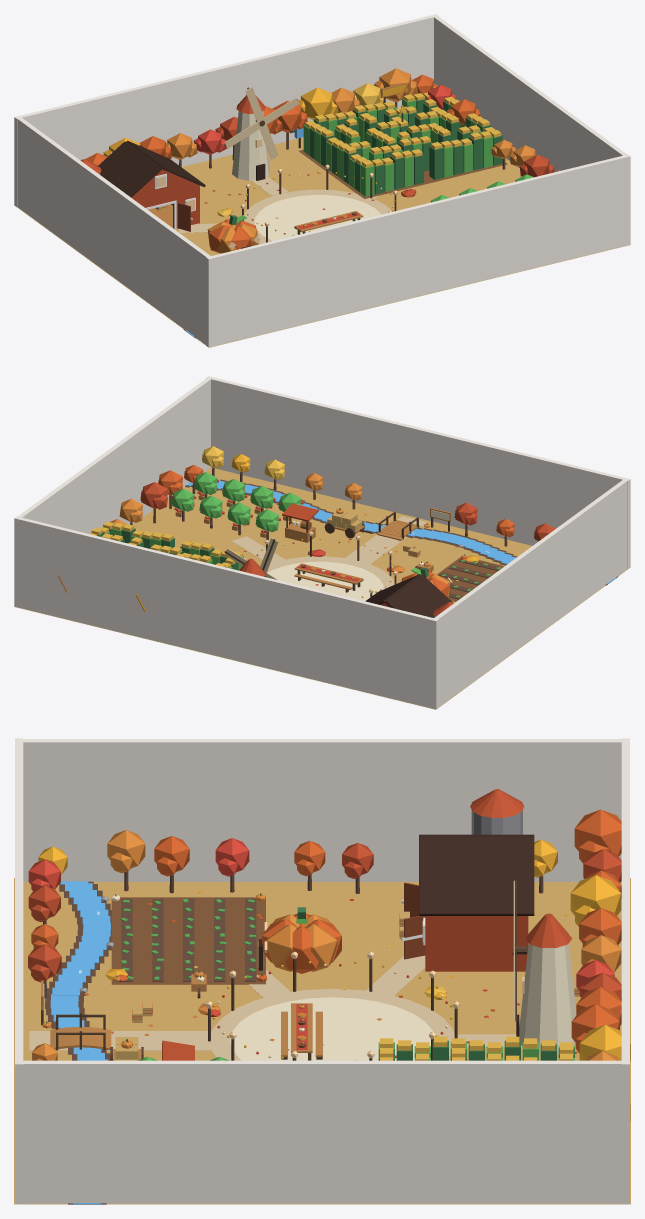
Rendered from CatCafe_Harvest_Set.glb.
3 views of the same model, one above another, from view 1: azimuth 30°, elevation 25°; view 2: azimuth 150°, elevation 25°; view 3: azimuth 270°, elevation 25° (orthographic). The views are drawn at different scales.
Visible parts, largest first — view 1: CatCafe_Harvest_Set_001_Fence_Barrier, CatCafe_Harvest_Set, CatCafe_Harvest_Set_005_Windmill_Sails_Spin, CatCafe_Harvest_Set_002_Lights_Glow; view 2: CatCafe_Harvest_Set_001_Fence_Barrier, CatCafe_Harvest_Set, CatCafe_Harvest_Set_003_Creek_Water, CatCafe_Harvest_Set_004_Leaves_Decor, CatCafe_Harvest_Set_005_Windmill_Sails_Spin; view 3: CatCafe_Harvest_Set_001_Fence_Barrier, CatCafe_Harvest_Set, CatCafe_Harvest_Set_003_Creek_Water, CatCafe_Harvest_Set_004_Leaves_Decor, CatCafe_Harvest_Set_002_Lights_Glow.
Boxes of the visible parts, x1=… form: CatCafe_Harvest_Set_001_Fence_Barrier: x1=14, y1=14, x2=630, y2=347; CatCafe_Harvest_Set: x1=17, y1=68, x2=630, y2=347; CatCafe_Harvest_Set_005_Windmill_Sails_Spin: x1=224, y1=87, x2=298, y2=159; CatCafe_Harvest_Set_002_Lights_Glow: x1=156, y1=85, x2=407, y2=249; CatCafe_Harvest_Set_001_Fence_Barrier: x1=14, y1=376, x2=630, y2=709; CatCafe_Harvest_Set: x1=14, y1=446, x2=627, y2=709; CatCafe_Harvest_Set_003_Creek_Water: x1=186, y1=480, x2=616, y2=583; CatCafe_Harvest_Set_004_Leaves_Decor: x1=189, y1=514, x2=500, y2=597; CatCafe_Harvest_Set_005_Windmill_Sails_Spin: x1=224, y1=537, x2=278, y2=580; CatCafe_Harvest_Set_001_Fence_Barrier: x1=15, y1=738, x2=629, y2=1204; CatCafe_Harvest_Set: x1=14, y1=789, x2=630, y2=1204; CatCafe_Harvest_Set_003_Creek_Water: x1=50, y1=881, x2=110, y2=1204; CatCafe_Harvest_Set_004_Leaves_Decor: x1=84, y1=891, x2=577, y2=1053; CatCafe_Harvest_Set_002_Lights_Glow: x1=206, y1=921, x2=524, y2=1060.
Size of the model in its own units: 150 by 33.47 by 120.
1 material, 1 textured.
